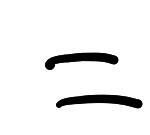eqv: (45, 53, 143, 109)
